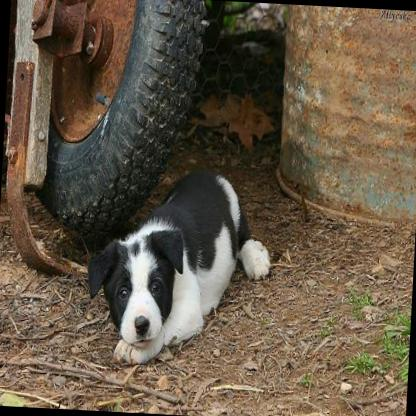collie: (81, 158, 274, 370)
